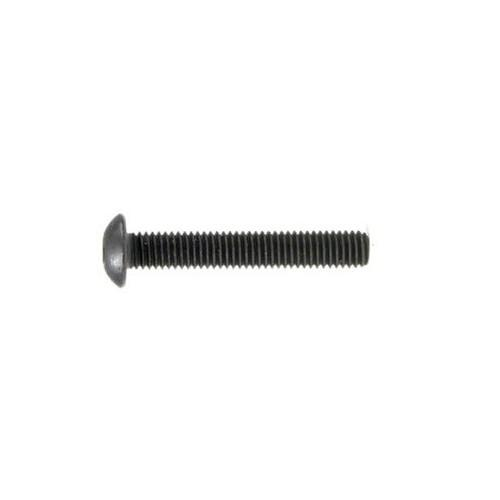Tornillo: (99, 212, 371, 290)
